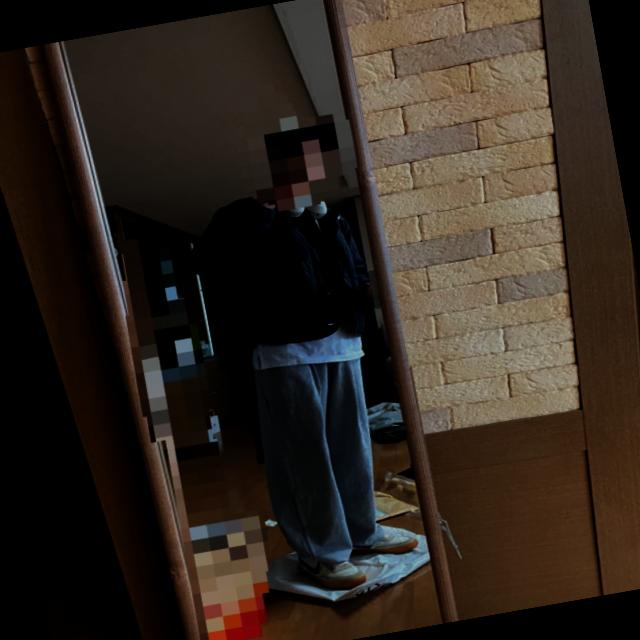padding: (177, 177, 376, 363)
trainingpants: (244, 344, 394, 572)
